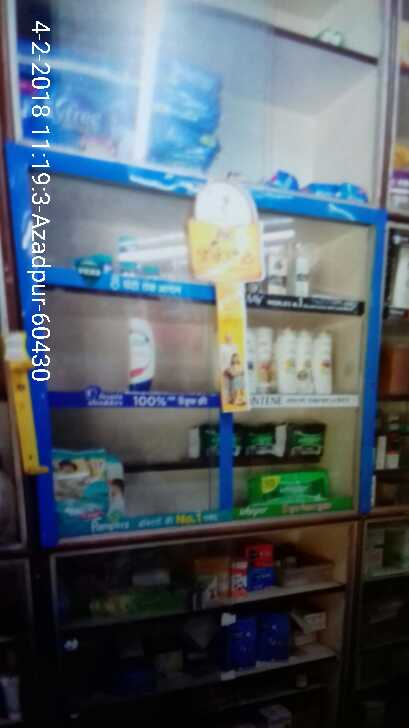vicks: (113, 231, 161, 277)
